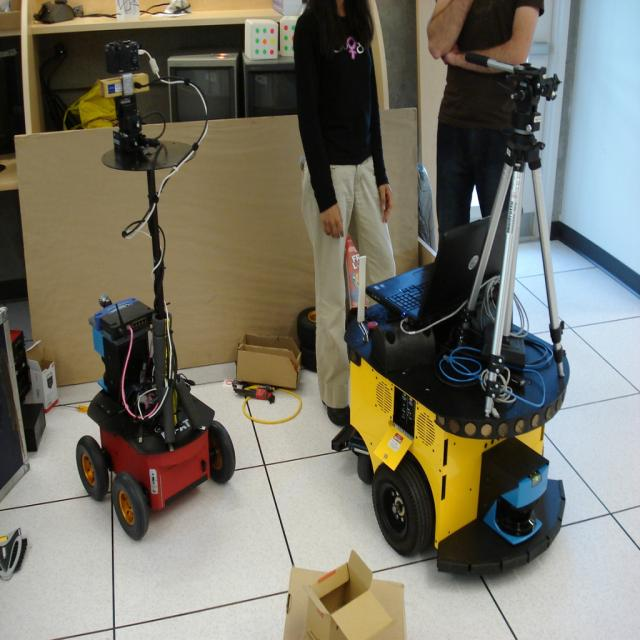Box: (437, 118, 512, 349)
